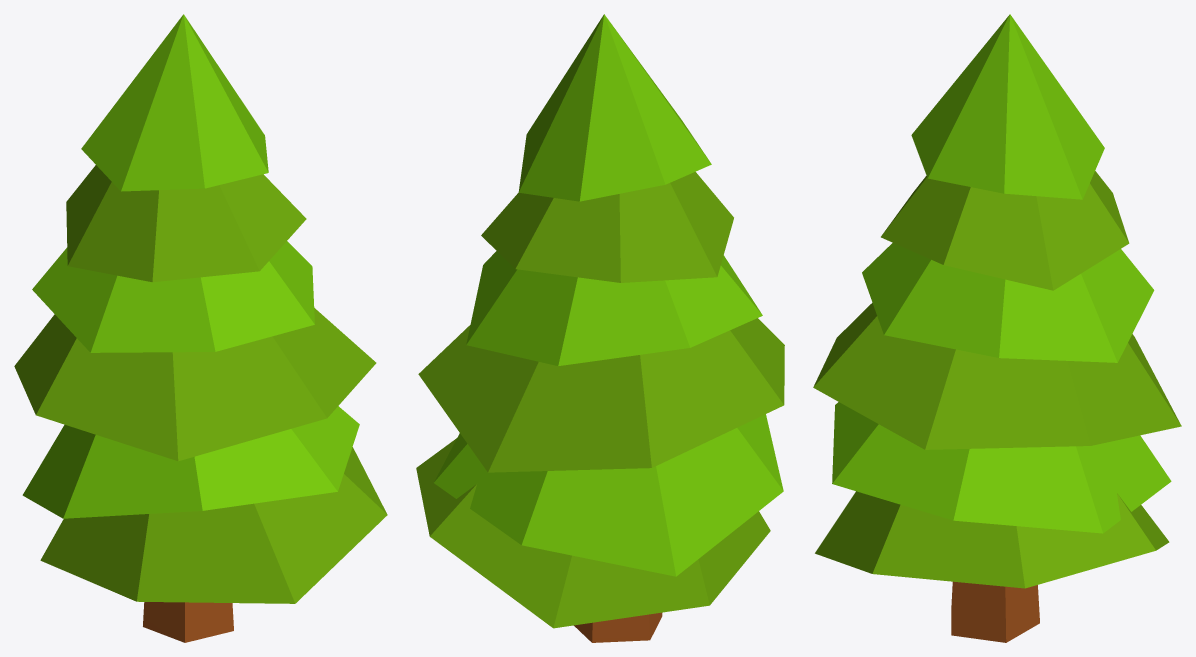
Rendered from Tree_23_Spring.fbx.
The picture shows the model from 3 angles, left to right: view 1: azimuth 30°, elevation 25°; view 2: azimuth 150°, elevation 25°; view 3: azimuth 270°, elevation 25°; orthographic projection. The views are drawn at different scales.
Visible parts, largest first — view 1: Tree_23_p2_Spring, Tree_23_p1_Spring; view 2: Tree_23_p2_Spring, Tree_23_p1_Spring; view 3: Tree_23_p2_Spring, Tree_23_p1_Spring.
Boxes of the visible parts, left/top/right/bottom form: Tree_23_p2_Spring: left=14, top=14, right=387, bottom=603; Tree_23_p1_Spring: left=143, top=602, right=233, bottom=642; Tree_23_p2_Spring: left=416, top=14, right=784, bottom=628; Tree_23_p1_Spring: left=574, top=612, right=662, bottom=642; Tree_23_p2_Spring: left=813, top=14, right=1181, bottom=588; Tree_23_p1_Spring: left=951, top=581, right=1039, bottom=642.
Size of the model in its own units: 198 by 337 by 184.
